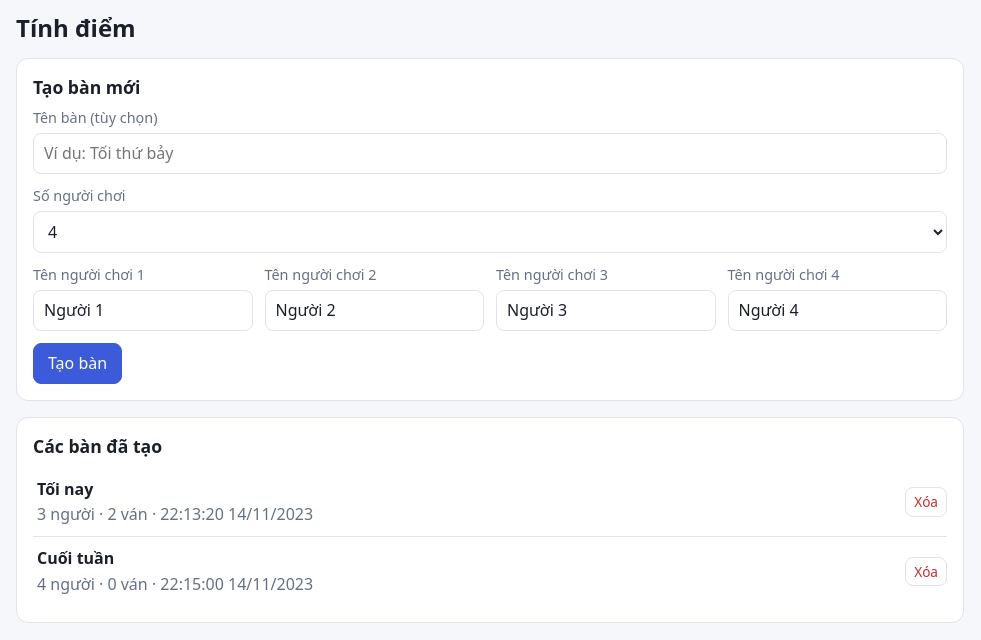
Test case: HomePage deleting a game › asks for confirmation, deletes that game and removes only it from the list
Click the button with aria-label "Xóa bàn Tối nay" at (926, 502), box [905,487,947,517]
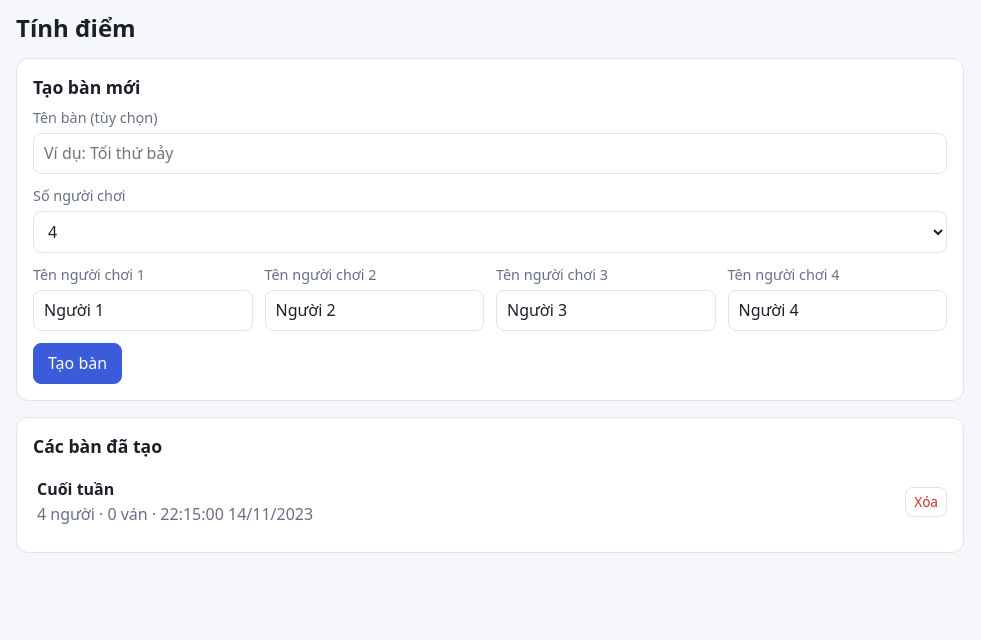
Check: the link "Cuối tuần 4 người · 0 ván · 22:15:00 14/11/2023" is shown, box [37,478,313,525]
Check: the link "Tối nay" is gone
